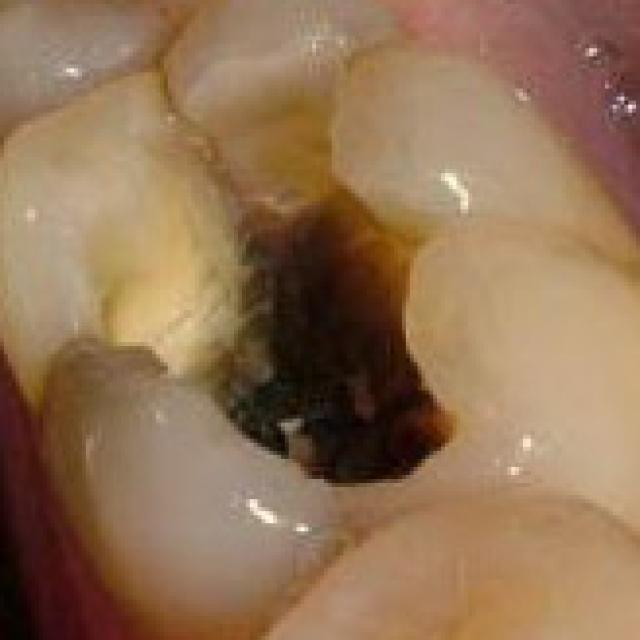Carrier: (210, 182, 465, 501)
